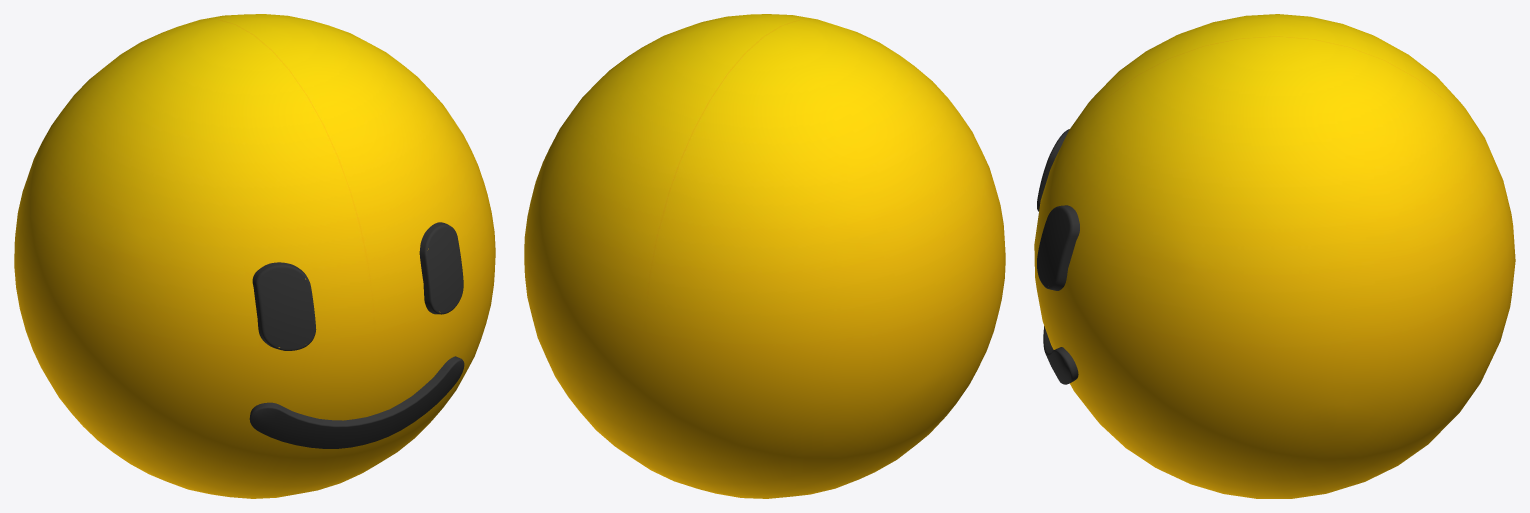
Rendered from SmilingFace.FBX.
3 views of the same model, side by side, from view 1: azimuth 30°, elevation 25°; view 2: azimuth 150°, elevation 25°; view 3: azimuth 270°, elevation 25° (orthographic).
Visible parts, largest first — view 1: polySurface168; view 2: polySurface168; view 3: polySurface168.
Part boxes in pixels (x1,y1,x2,y2): polySurface168: (14,14,495,498); polySurface168: (524,14,1005,498); polySurface168: (1034,14,1515,498).
Size of the model in its own units: 162 by 164 by 162.
1 material, 1 textured.
